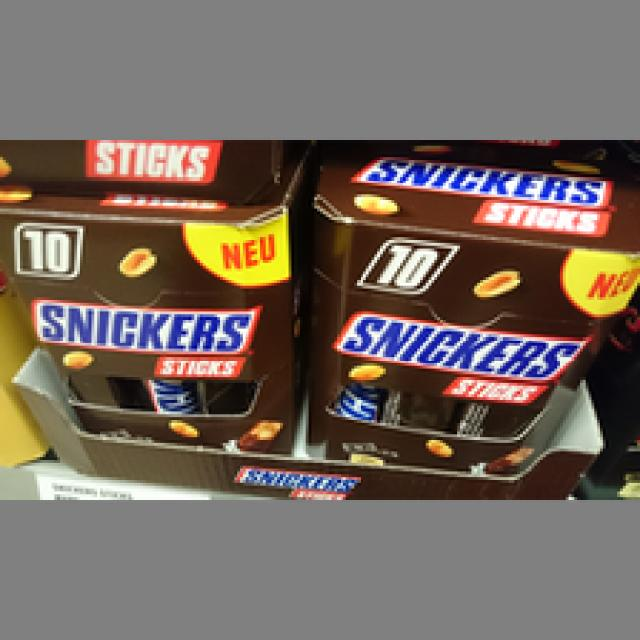groceries: (314, 148, 632, 466), (0, 179, 291, 451)
